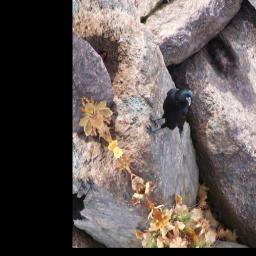Crow: (137, 75, 212, 160)
